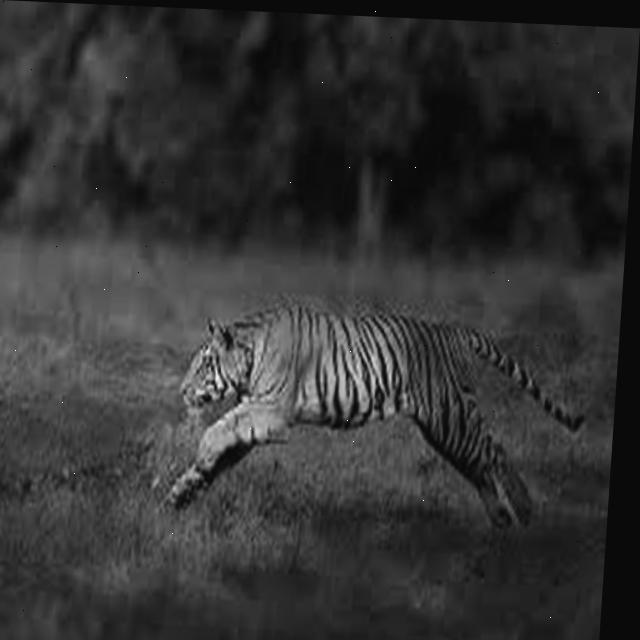Tiger: (160, 295, 592, 539)
